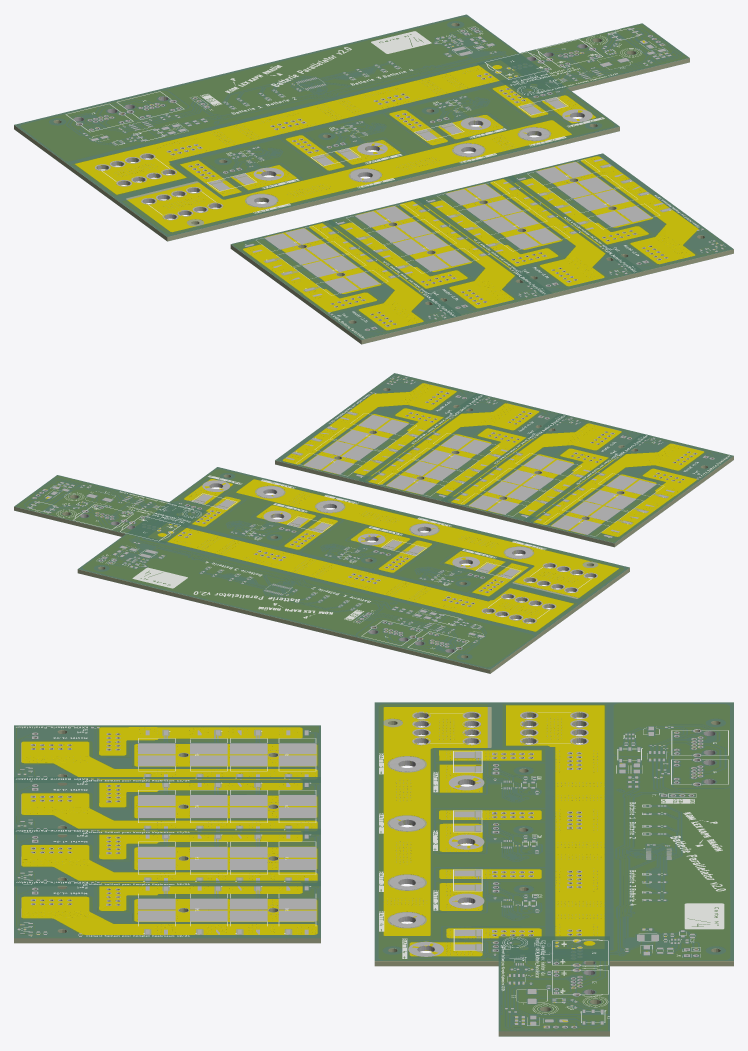
File: bmu-assembly.glb
The picture shows the model from 3 angles, top to bottom: view 1: azimuth 30°, elevation 25°; view 2: azimuth 150°, elevation 25°; view 3: azimuth 270°, elevation 25°; orthographic projection. The views are drawn at different scales.
Visible parts, largest first — view 1: part_0, part_33895, part_33897, part_33340; view 2: part_0, part_33895, part_33897, part_33340; view 3: part_0, part_33895, part_33897, part_33340.
Boxes of the visible parts, x1,y1,x2,y2 form: part_0: (21,17,723,330); part_33895: (14,14,733,344); part_33897: (14,15,733,344); part_33340: (65,26,725,338); part_0: (18,376,714,666); part_33895: (14,373,733,673); part_33897: (14,374,733,673); part_33340: (29,377,729,657); part_0: (16,704,729,1029); part_33895: (14,702,733,1036); part_33897: (14,703,733,1036); part_33340: (16,712,728,1025).
Size of the model in its own units: 217 by 1.67 by 201.
4 materials, 4 textured.
